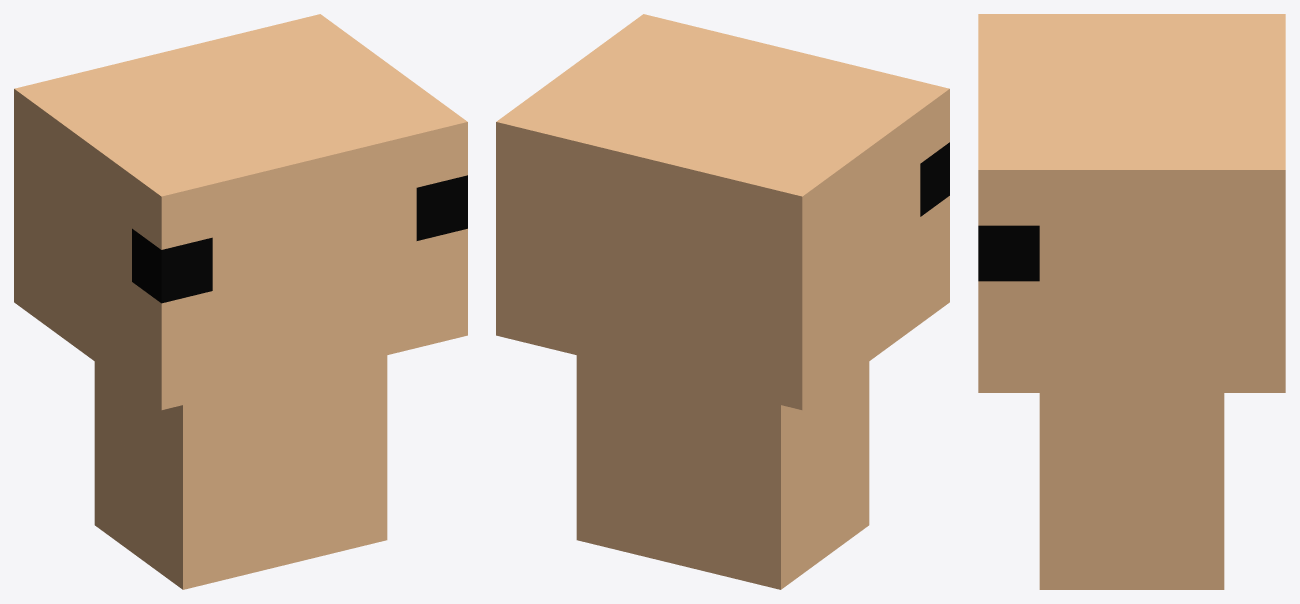
Rendered from Player_Def_Body.obj.
The picture shows the model from 3 angles, left to right: view 1: azimuth 30°, elevation 25°; view 2: azimuth 150°, elevation 25°; view 3: azimuth 270°, elevation 25°; orthographic projection. The views are drawn at different scales.
Size of the model in its own units: 0.6 by 0.8 by 0.5.
Materials: 1 (1 with a texture image).
